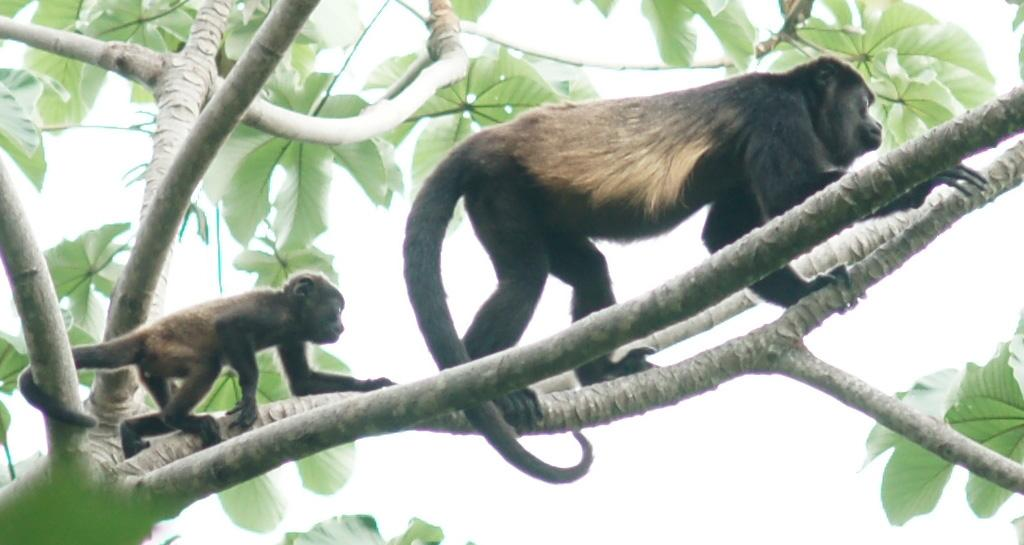monkey: (400, 59, 884, 373)
